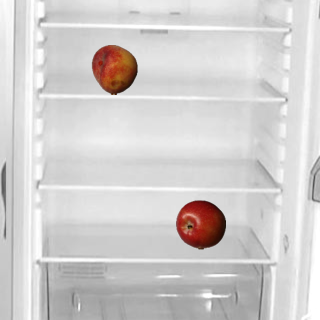Apple Braeburn: (175, 199, 225, 249)
Peach: (89, 44, 139, 94)
